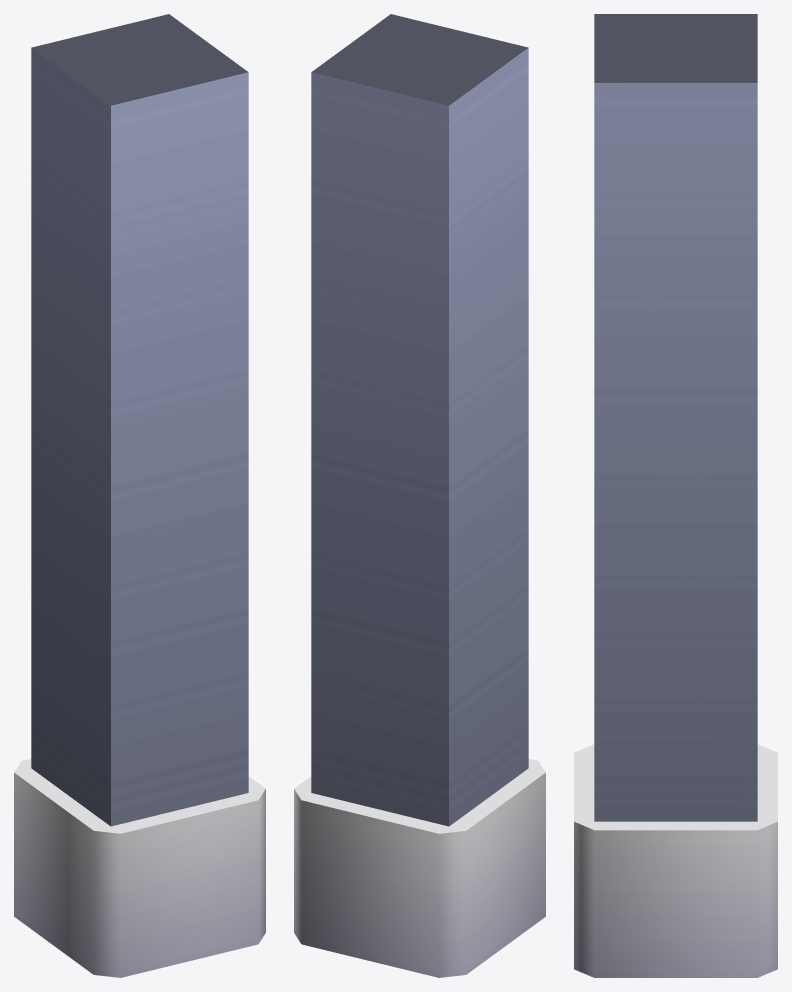
Rendered from k-column.glb.
3 renders of one model, left to right at view 1: azimuth 30°, elevation 25°; view 2: azimuth 150°, elevation 25°; view 3: azimuth 270°, elevation 25°, orthographic. The views are drawn at different scales.
Visible parts, largest first — view 1: column; view 2: column; view 3: column.
Boxes of the visible parts, x1=… form: column: x1=14, y1=14, x2=265, y2=977; column: x1=294, y1=14, x2=545, y2=977; column: x1=574, y1=14, x2=777, y2=977.
Bounding box in the file's own units: 0.5 × 2.4 × 0.5.
1 material, 1 textured.
